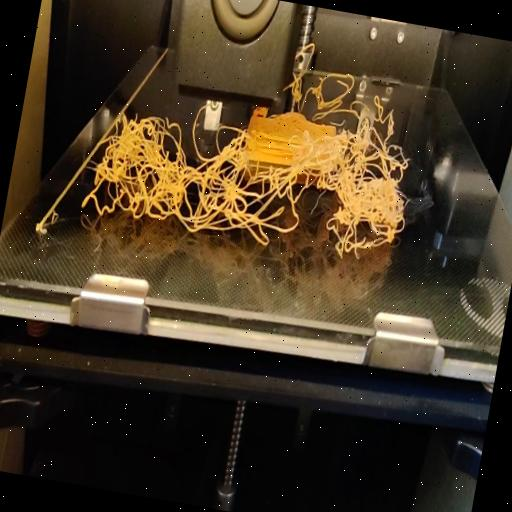spaghetti: (81, 86, 419, 271), (284, 39, 405, 137)
